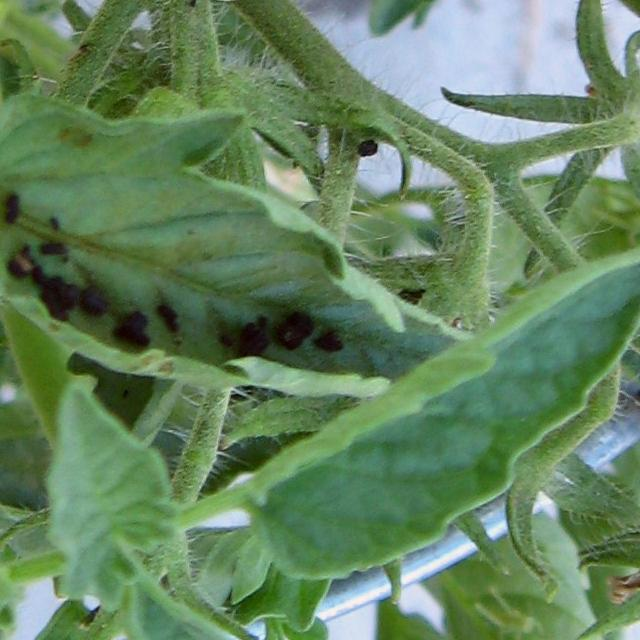Tomato leaf: (221, 235, 640, 568)
